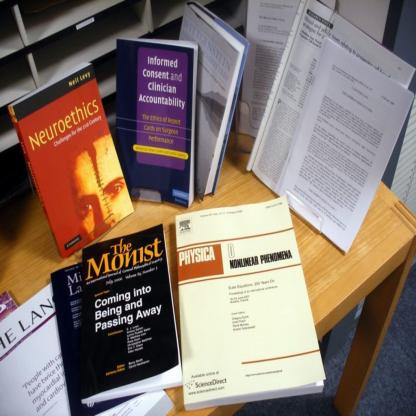book: (163, 183, 330, 399), (5, 61, 134, 262), (83, 222, 187, 404), (178, 0, 248, 202), (118, 41, 196, 207)
